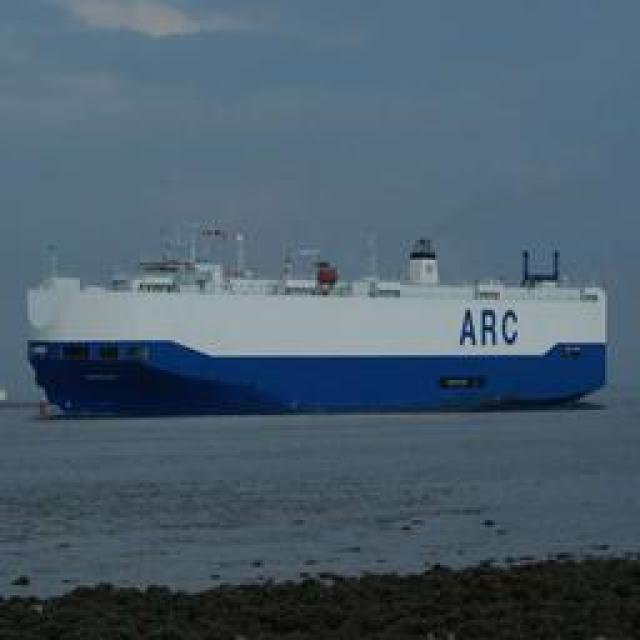CIV_Ship: (25, 232, 640, 416)
